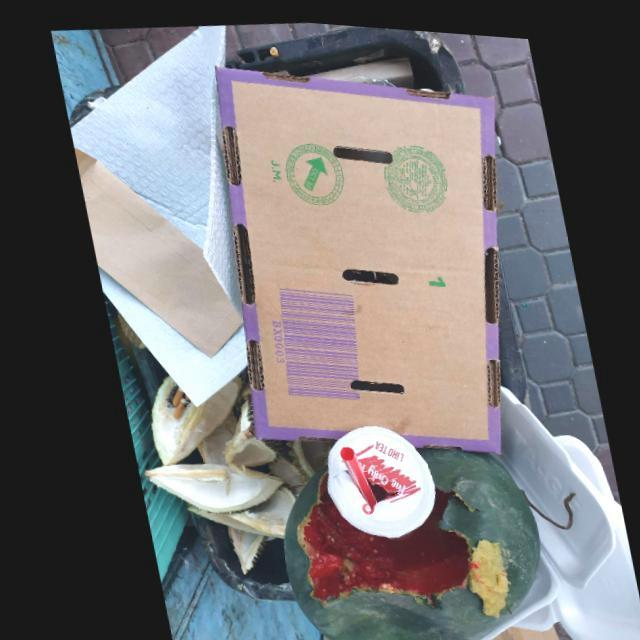cardboard: (213, 62, 496, 445)
paper: (71, 146, 236, 354)
plastic_container: (318, 419, 425, 532)
